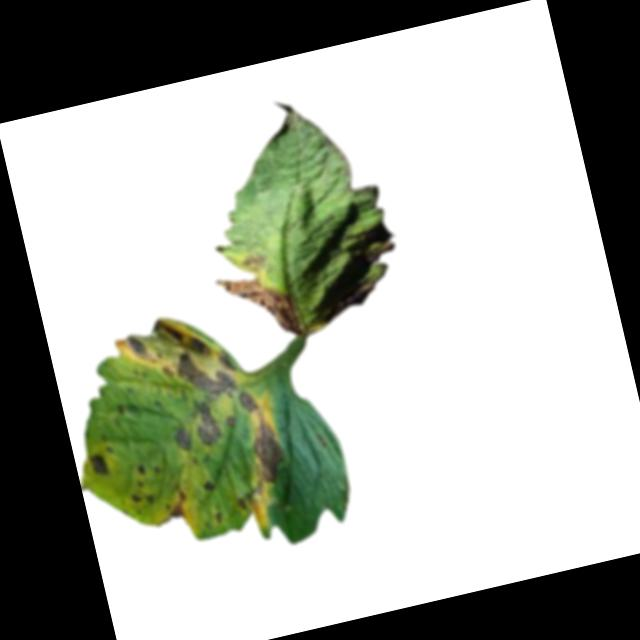Early_blight: (111, 303, 241, 419), (215, 263, 306, 349), (239, 416, 288, 490), (190, 400, 225, 451), (162, 480, 191, 521), (85, 450, 110, 480), (240, 247, 268, 273), (171, 424, 193, 453), (129, 485, 156, 508), (236, 387, 258, 414), (234, 494, 248, 511), (200, 476, 214, 492), (135, 461, 147, 478), (224, 415, 236, 426)
